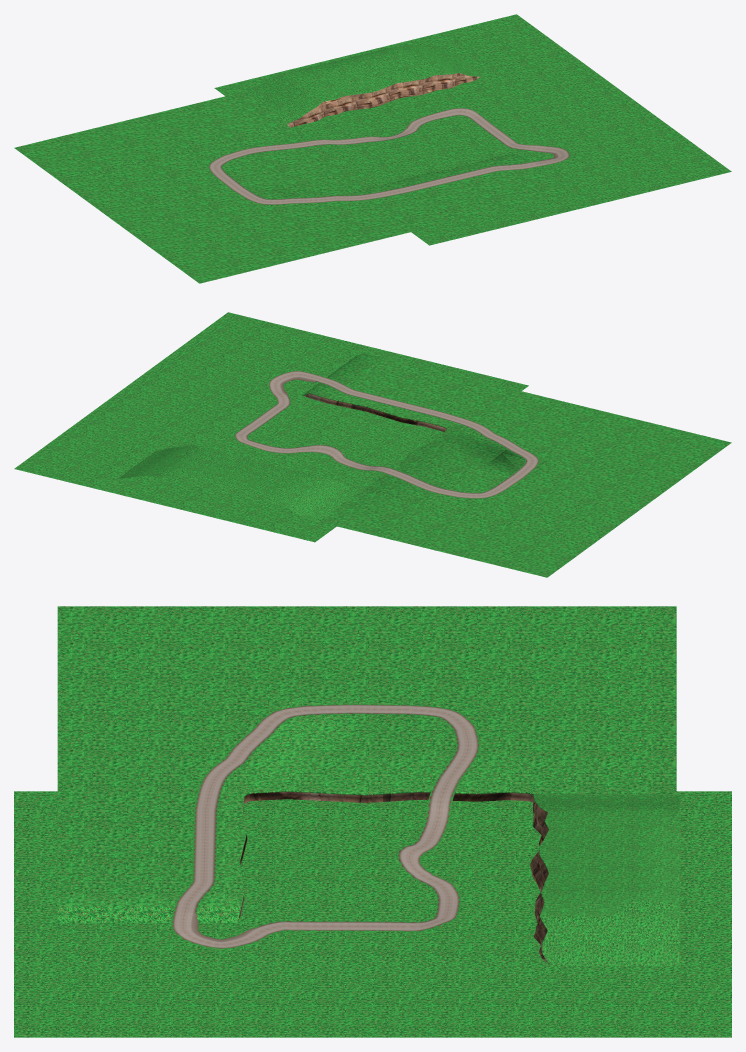
The model's file is NewTrack.FBX.
The picture shows the model from 3 angles, top to bottom: view 1: azimuth 30°, elevation 25°; view 2: azimuth 150°, elevation 25°; view 3: azimuth 270°, elevation 25°; orthographic projection. The views are drawn at different scales.
Visible parts, largest first — view 1: UpperPlane, Bottom Plane, Back CliffFace, Track; view 2: UpperPlane, Bottom Plane, Back CliffFace, Track; view 3: UpperPlane, Bottom Plane, Back CliffFace, Track.
Boxes of the visible parts, <box> form: UpperPlane: <box>14,92,576,283</box>; Bottom Plane: <box>214,14,731,245</box>; Back CliffFace: <box>243,44,481,127</box>; Track: <box>208,107,570,204</box>; UpperPlane: <box>302,353,731,577</box>; Bottom Plane: <box>14,312,528,542</box>; Back CliffFace: <box>118,444,360,522</box>; Track: <box>234,370,539,498</box>; UpperPlane: <box>57,606,676,922</box>; Bottom Plane: <box>14,791,731,1037</box>; Back CliffFace: <box>530,793,679,965</box>; Track: <box>171,704,480,948</box>.
Size of the model in its own units: 1366 by 41.54 by 981.
